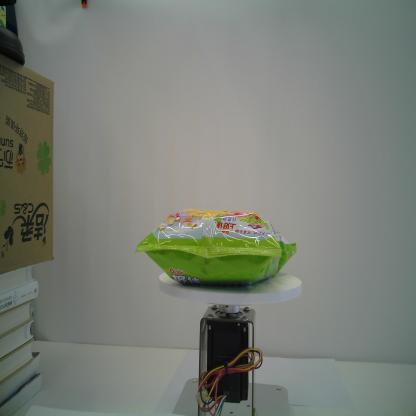Puffed Food: (134, 208, 298, 288)
